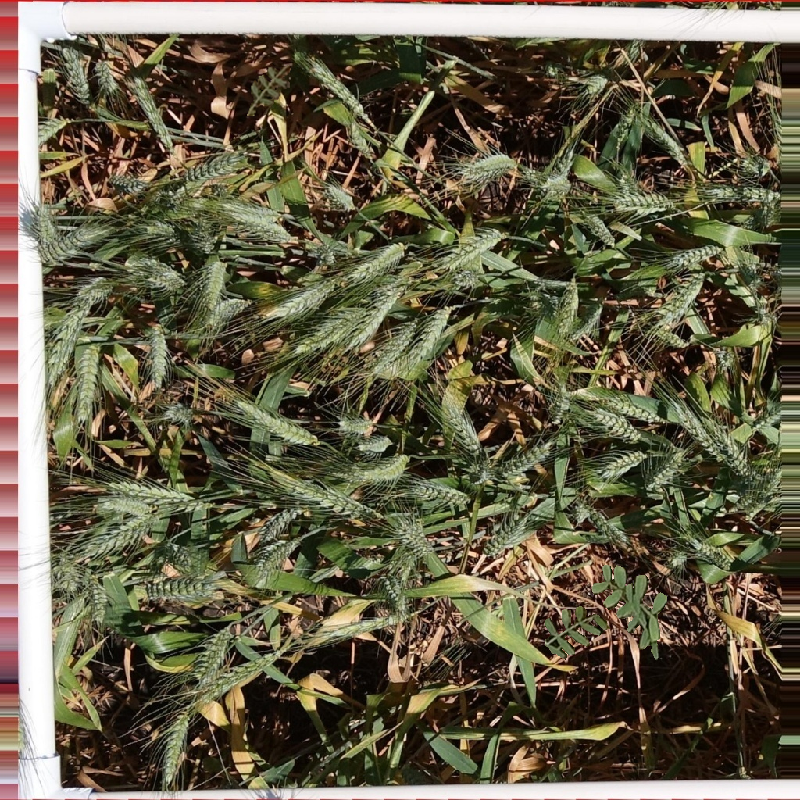spikelet: (673, 397, 756, 478), (226, 394, 321, 447), (164, 145, 248, 204), (272, 471, 373, 519), (195, 649, 280, 704), (290, 302, 369, 357), (305, 52, 369, 118), (355, 271, 409, 344), (101, 474, 203, 512), (217, 194, 294, 243), (78, 510, 156, 558), (268, 271, 340, 321), (38, 218, 113, 266), (129, 72, 174, 151), (56, 274, 114, 334), (652, 269, 707, 329), (369, 314, 422, 375), (70, 338, 106, 424), (122, 248, 187, 294), (442, 223, 507, 269), (438, 399, 486, 459), (636, 112, 690, 165), (490, 437, 555, 481), (346, 238, 409, 282), (190, 623, 235, 684), (574, 500, 630, 545), (158, 712, 193, 783), (56, 42, 94, 107), (733, 466, 783, 514), (413, 302, 453, 361), (481, 512, 533, 557), (589, 391, 662, 423), (157, 536, 212, 578), (644, 443, 688, 494), (141, 575, 220, 603), (249, 535, 298, 579), (589, 404, 644, 442), (608, 188, 682, 216), (200, 292, 251, 331), (391, 514, 436, 558), (664, 238, 725, 270), (409, 477, 471, 508), (196, 255, 230, 310), (458, 151, 516, 183), (255, 505, 303, 543), (551, 278, 581, 338), (356, 451, 412, 483), (144, 321, 171, 387), (598, 445, 649, 479), (605, 99, 641, 146), (29, 197, 60, 251), (568, 298, 605, 341), (93, 493, 155, 518), (82, 569, 110, 624), (581, 209, 618, 249), (378, 570, 410, 616), (31, 112, 73, 147), (692, 537, 735, 571), (188, 212, 219, 254), (537, 168, 574, 203), (91, 55, 121, 97), (106, 168, 149, 196), (733, 181, 780, 206), (345, 118, 374, 157), (322, 179, 356, 211), (663, 536, 691, 574), (650, 324, 689, 349), (449, 266, 488, 290), (143, 217, 180, 242), (161, 400, 196, 426), (738, 151, 772, 177), (336, 413, 373, 436), (701, 182, 739, 204), (712, 343, 739, 373), (582, 69, 610, 96)
weed: (592, 565, 667, 661), (545, 606, 610, 660), (247, 65, 291, 116)
